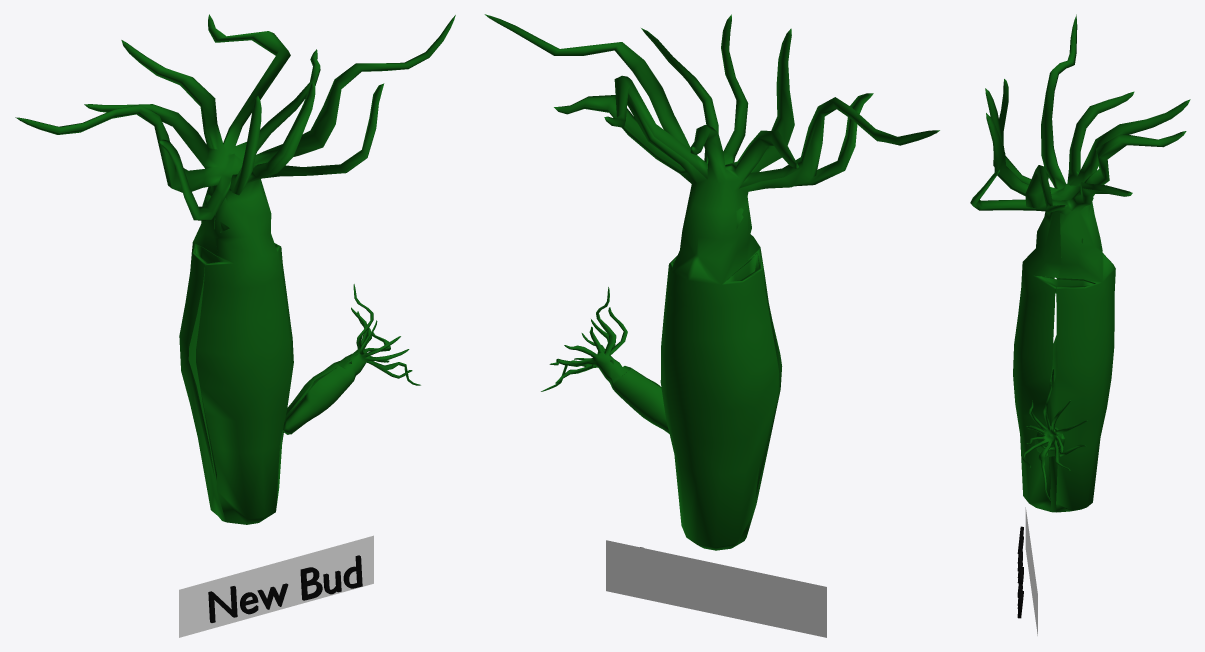
Rendered from newbud.gltf.
3 views of the same model, side by side, from view 1: azimuth 30°, elevation 25°; view 2: azimuth 150°, elevation 25°; view 3: azimuth 270°, elevation 25° (orthographic). The views are drawn at different scales.
Visible parts, largest first — view 1: Object_7.004, Plane.008, Object_7.005, Text.008; view 2: Object_7.004, Plane.008, Object_7.005; view 3: Object_7.004, Object_7.005, Plane.008, Text.008.
Part boxes in pixels (bbox=[...]): Object_7.004: bbox=[15, 14, 455, 524]; Plane.008: bbox=[179, 535, 373, 637]; Object_7.005: bbox=[282, 284, 420, 434]; Text.008: bbox=[208, 555, 362, 622]; Object_7.004: bbox=[484, 14, 939, 550]; Plane.008: bbox=[606, 540, 826, 637]; Object_7.005: bbox=[541, 287, 669, 433]; Object_7.004: bbox=[970, 14, 1190, 512]; Object_7.005: bbox=[1022, 368, 1087, 500]; Plane.008: bbox=[1025, 507, 1037, 635]; Text.008: bbox=[1017, 526, 1023, 618].
Bounding box in the file's own units: 14.39 × 17.16 × 7.05.
